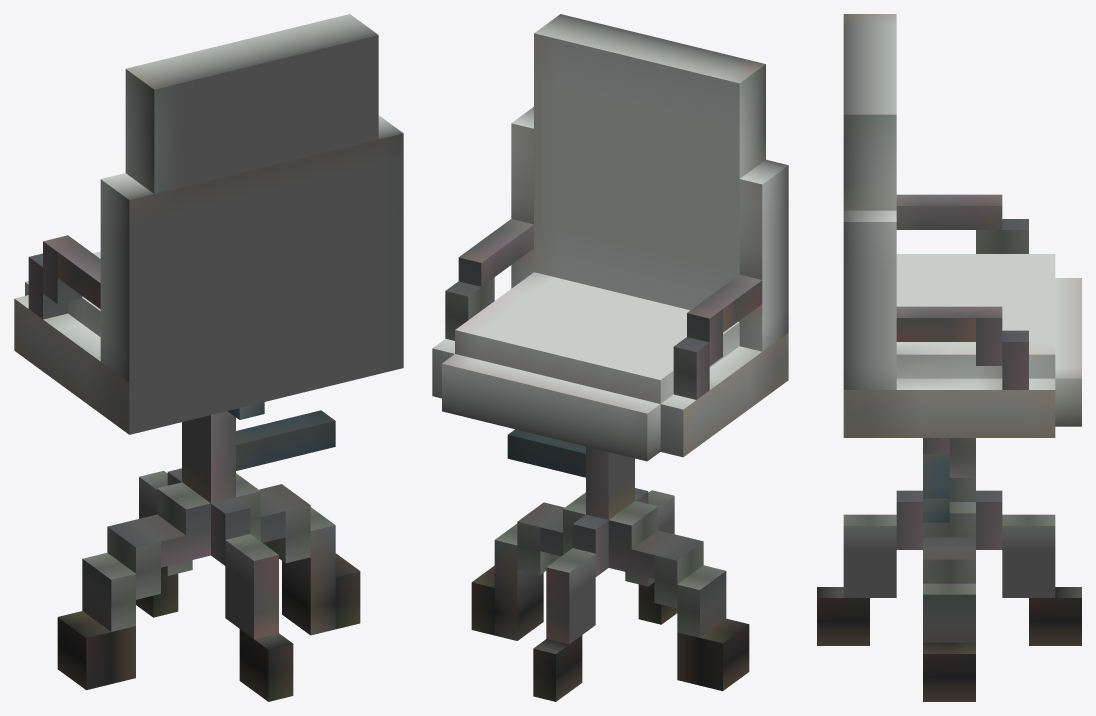
File: OfficeChairWhite_00.obj
The picture shows the model from 3 angles, left to right: view 1: azimuth 30°, elevation 25°; view 2: azimuth 150°, elevation 25°; view 3: azimuth 270°, elevation 25°; orthographic projection. The views are drawn at different scales.
Parts seen in each view (by area): view 1: OfficeChairWhite_00; view 2: OfficeChairWhite_00; view 3: OfficeChairWhite_00.
Part boxes in pixels (box(x1,y1,x2,y2)): OfficeChairWhite_00: box(14, 14, 403, 701); OfficeChairWhite_00: box(432, 14, 788, 701); OfficeChairWhite_00: box(817, 14, 1081, 701).
Size of the model in its own units: 0.55 by 1.2 by 0.5.
